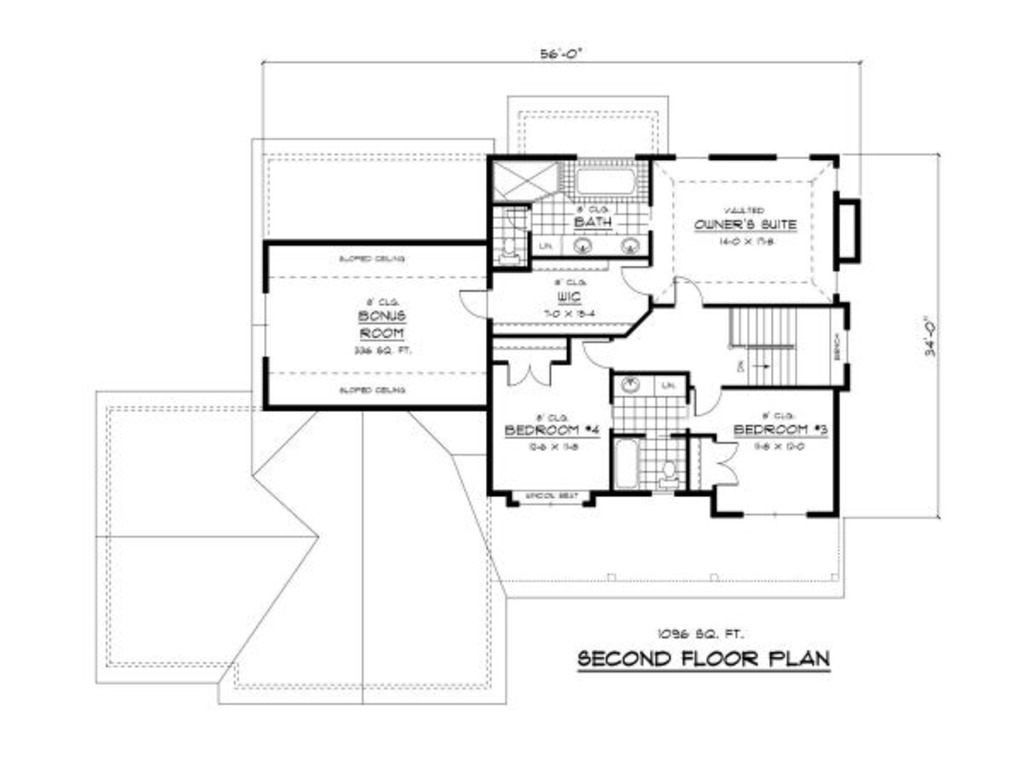door: (711, 439, 747, 490), (506, 359, 557, 390), (613, 263, 650, 300), (455, 284, 488, 320), (672, 274, 705, 308), (579, 339, 611, 371), (689, 385, 720, 418)
large_sink: (496, 233, 523, 273), (659, 457, 681, 492)
small_sink: (561, 231, 647, 258), (611, 372, 655, 400)
stairs: (722, 302, 811, 388)
tub: (568, 161, 640, 203), (611, 435, 649, 496)
windows: (257, 287, 272, 357), (518, 499, 585, 514), (765, 150, 822, 164), (737, 509, 815, 519), (671, 148, 713, 165)
